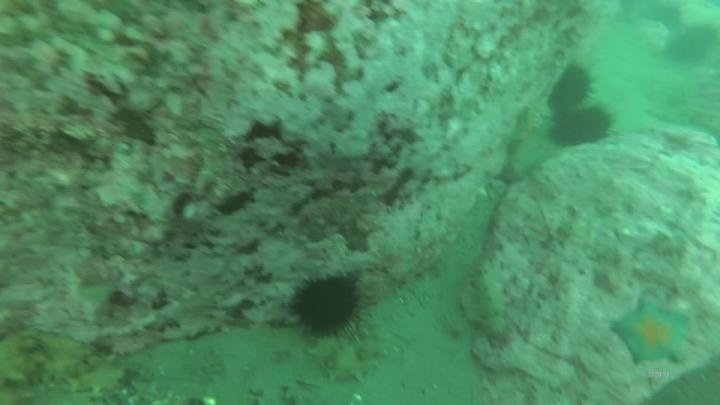echinus: (287, 270, 368, 341), (547, 103, 614, 150), (549, 62, 596, 111), (664, 36, 707, 68), (688, 25, 720, 48)
holothurian: (1, 329, 128, 399), (306, 325, 393, 386), (470, 257, 513, 341)
starfish: (608, 296, 694, 369), (505, 104, 557, 176)
